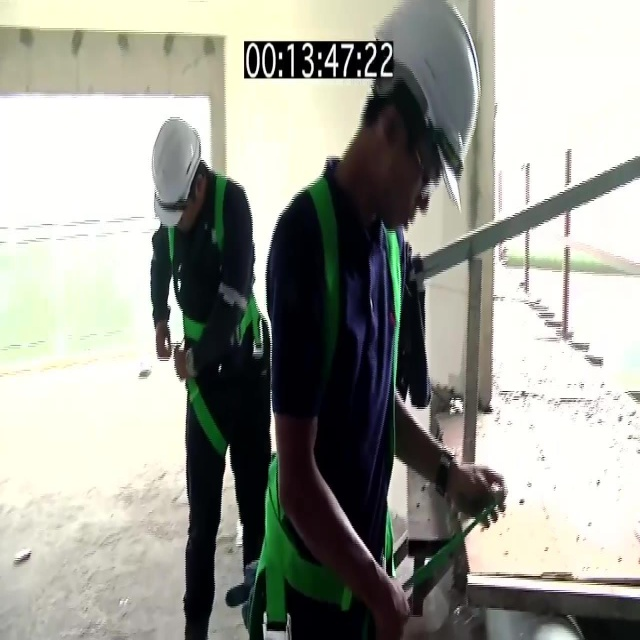Arnes_seguridad: (267, 187, 403, 634), (166, 171, 231, 456)
